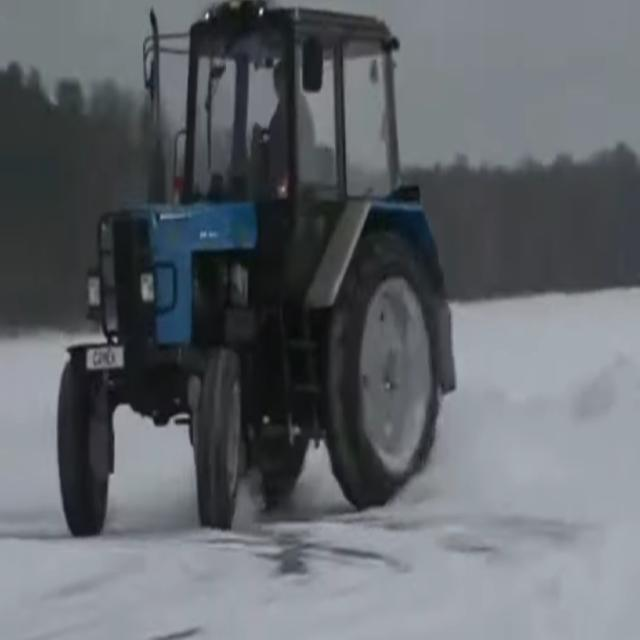non emergency car: (55, 1, 461, 548)
